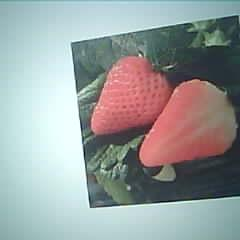straw-ripe: (92, 55, 167, 135)
